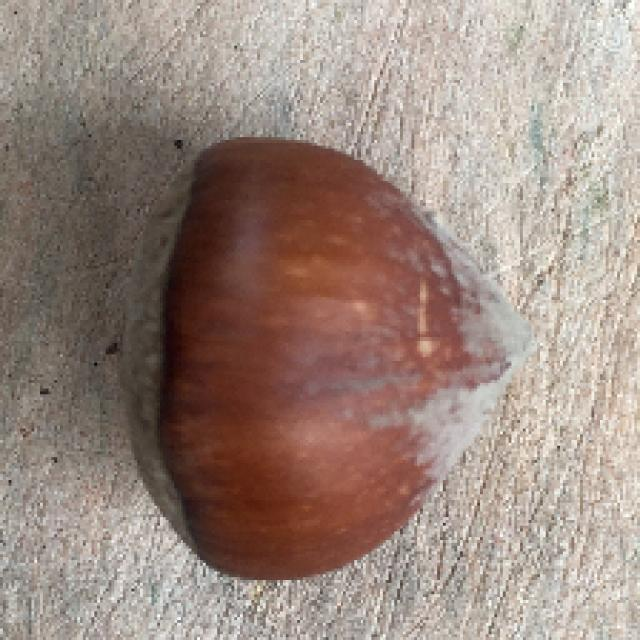qualityHazelnut: (110, 134, 532, 582)
